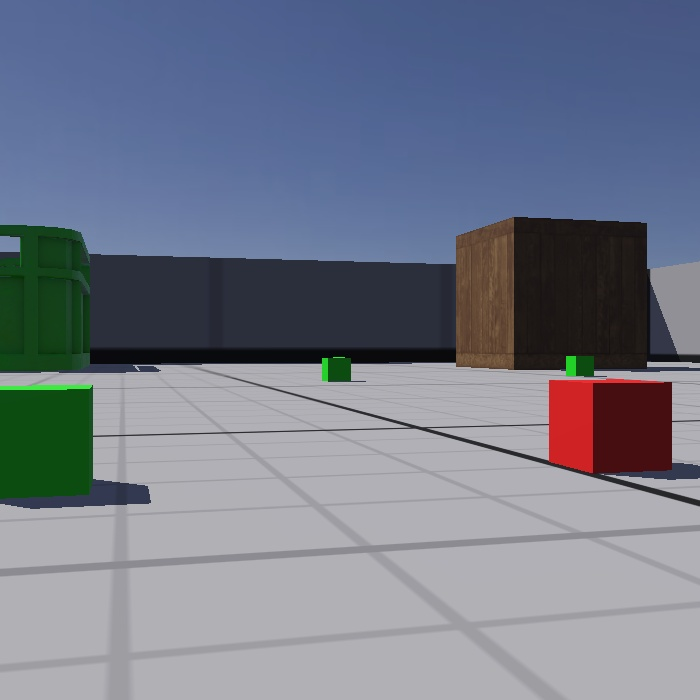caixa_verde: (0, 209, 103, 388)
cubo_verde: (0, 371, 101, 522), (555, 346, 606, 388), (314, 347, 359, 392)
cubo_vermelho: (538, 373, 686, 483)
obstaculo: (450, 209, 657, 381)
